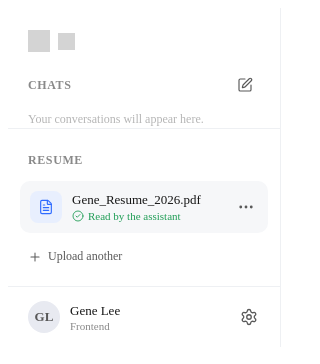
Scenario: ResumeSidebar › keeps the actions menu button visible and downloads from it
Step 1. Click the button named "Actions for Gene_Resume_2026.pdf" → (246, 207), box [232,193,260,221]
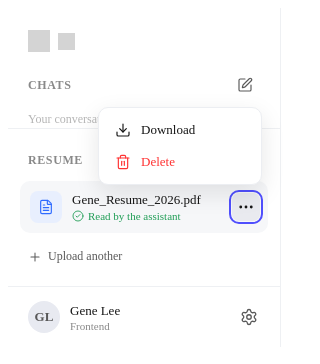
Check: the button named "Actions for Gene_Resume_2026.pdf" is expanded, box [232,193,260,221]
Step 2. Click the menu item "Download" → (180, 130), box [105,114,255,146]
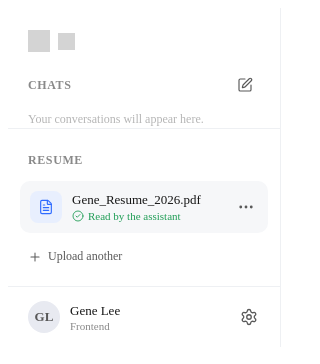
Check: the menu is gone
